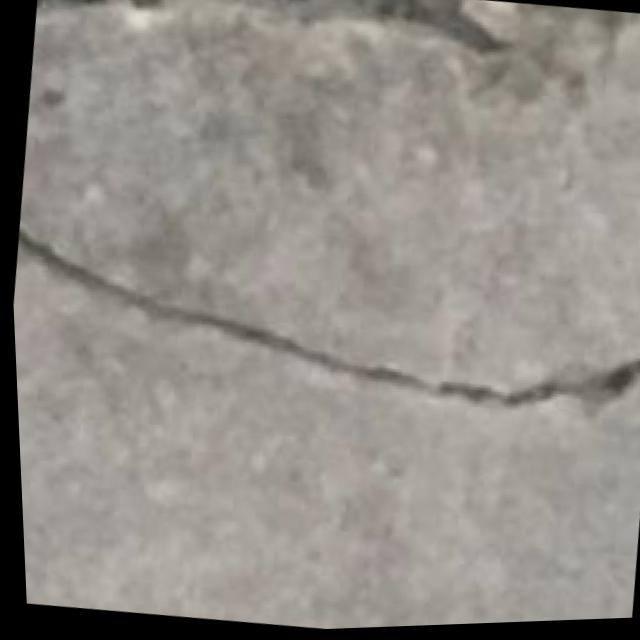Crack: (8, 211, 640, 454), (34, 0, 505, 80)
